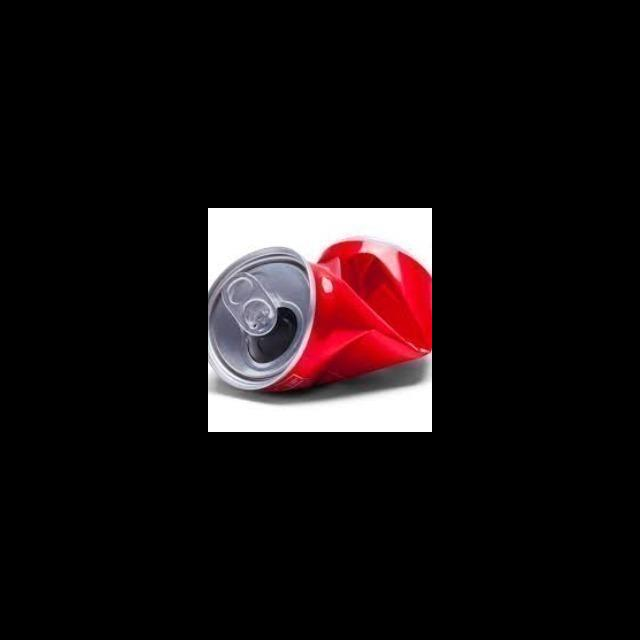metal: (208, 232, 432, 393)
